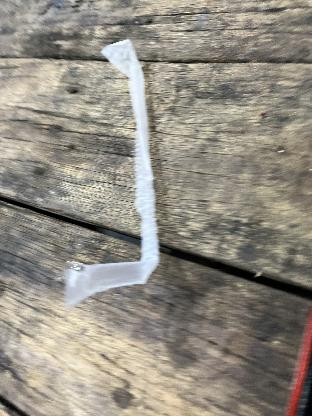Others: (59, 37, 163, 309)
